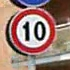limite 10: (6, 9, 56, 53)
